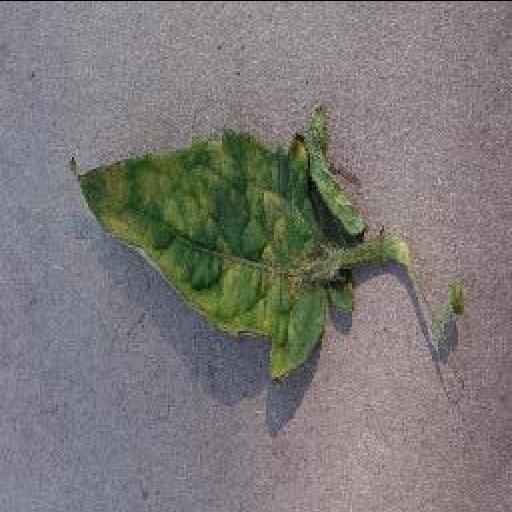disease_tomato: (68, 100, 370, 378)
